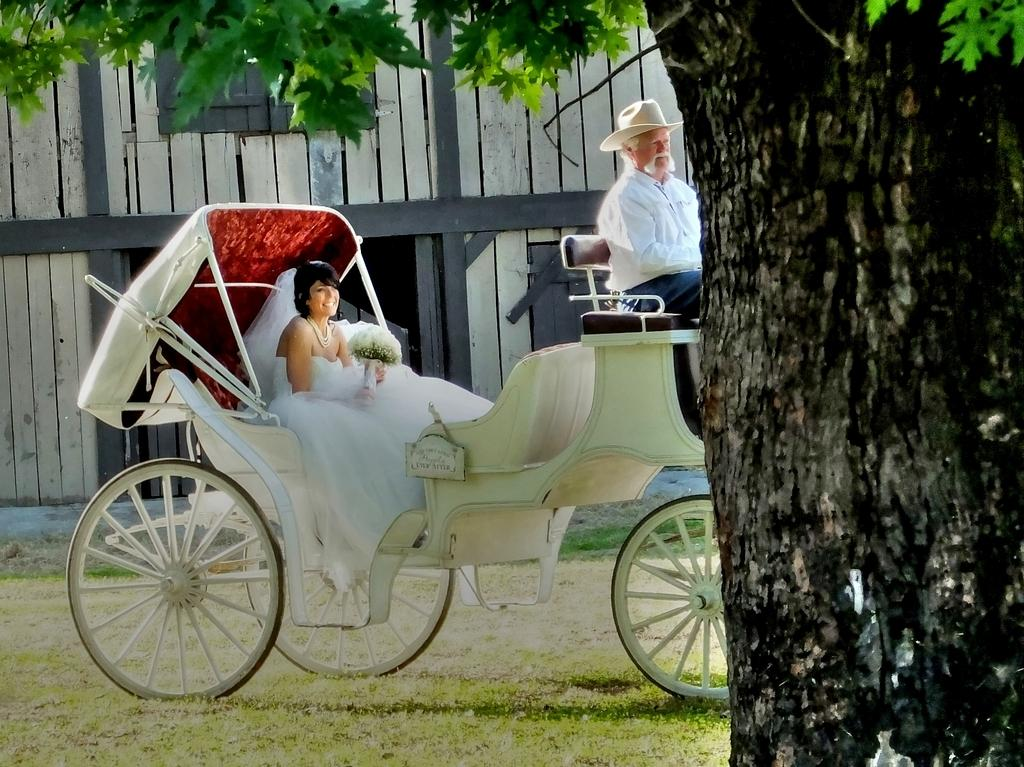Hat: (596, 97, 682, 153)
